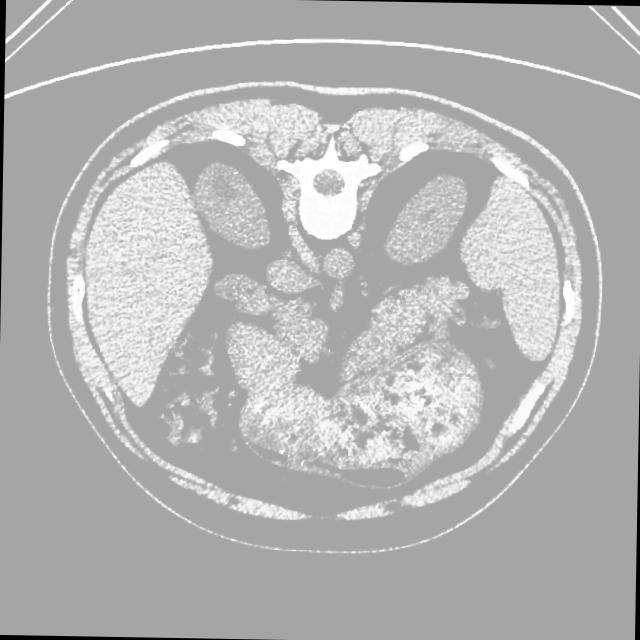cysts: (49, 82, 596, 546)
